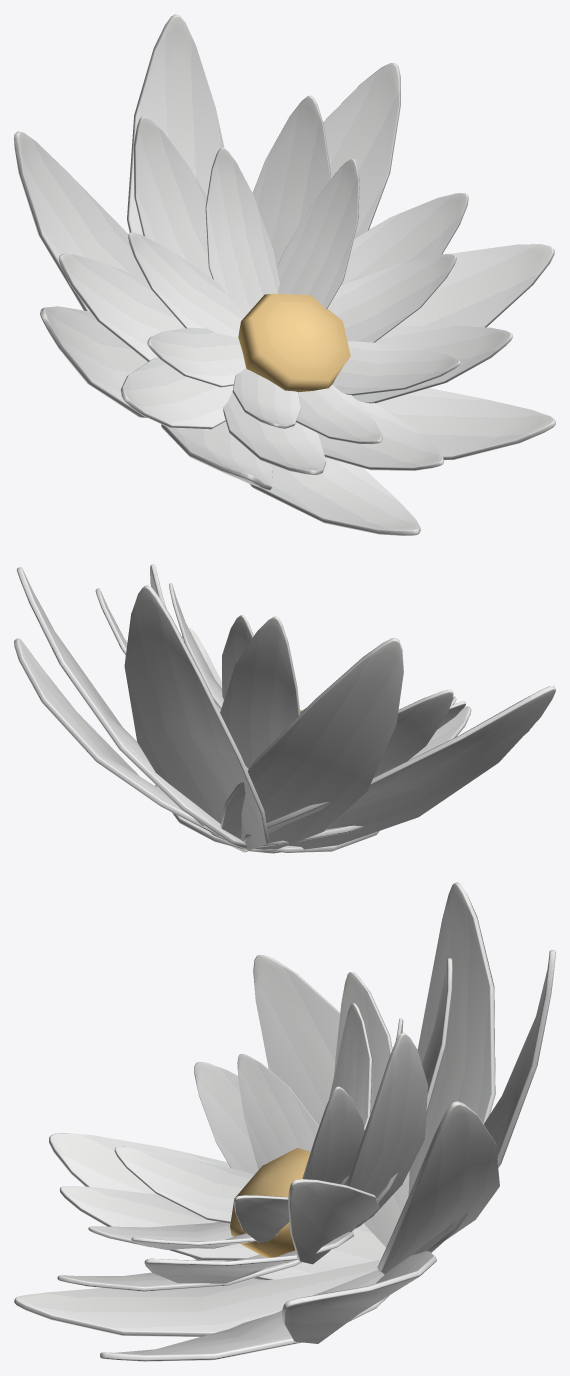
File: SM_Kadupul_Flower.fbx
3 views of the same model, one above another, from view 1: azimuth 30°, elevation 25°; view 2: azimuth 150°, elevation 25°; view 3: azimuth 270°, elevation 25° (orthographic). The views are drawn at different scales.
Parts seen in each view (by area): view 1: SM_Kadpul_Flower; view 2: SM_Kadpul_Flower; view 3: SM_Kadpul_Flower.
Boxes of the visible parts, x1=… form: SM_Kadpul_Flower: x1=14, y1=14, x2=555, y2=535; SM_Kadpul_Flower: x1=14, y1=564, x2=555, y2=853; SM_Kadpul_Flower: x1=14, y1=882, x2=555, y2=1361.
Size of the model in its own units: 59.8 by 37.92 by 49.77.
Materials: 1 (1 with a texture image).
